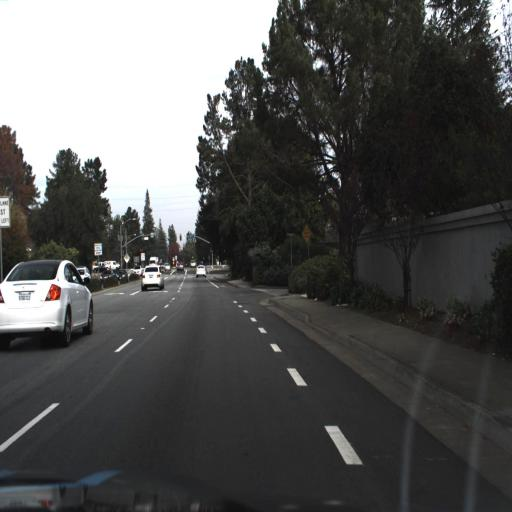car: (0, 252, 99, 352), (139, 259, 165, 297), (191, 259, 210, 284), (193, 263, 208, 282), (175, 260, 186, 276)
